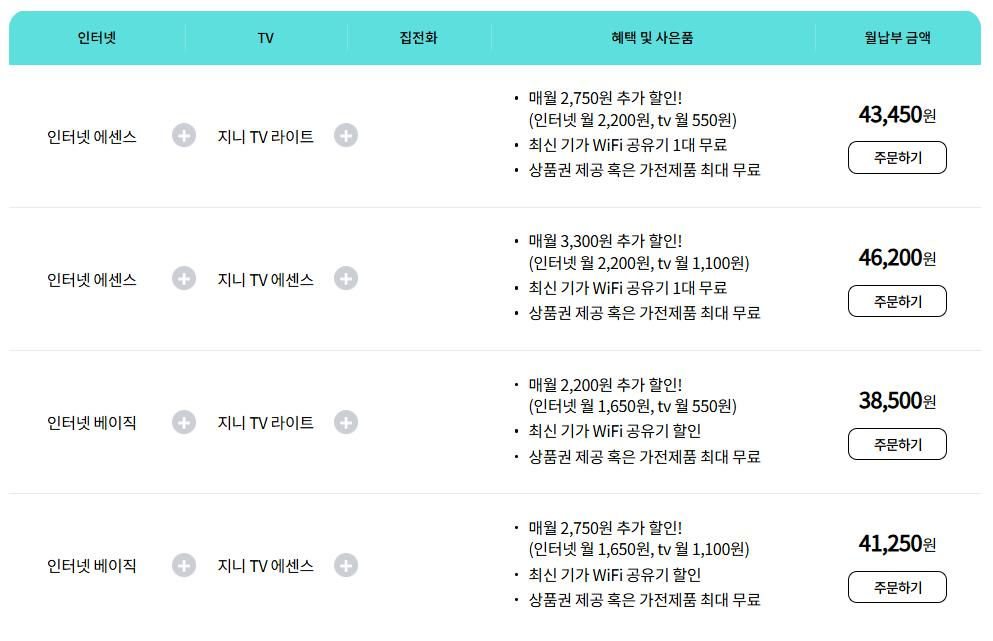button: (845, 140, 949, 177), (847, 427, 947, 464), (845, 283, 947, 317), (850, 573, 950, 602), (167, 121, 200, 150), (334, 414, 366, 439), (333, 268, 365, 289), (175, 265, 199, 292), (333, 122, 360, 144), (173, 557, 200, 575), (174, 409, 195, 430), (340, 561, 369, 575)
